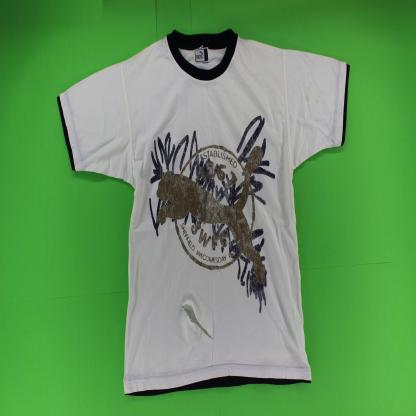hole: (175, 299, 214, 342)
